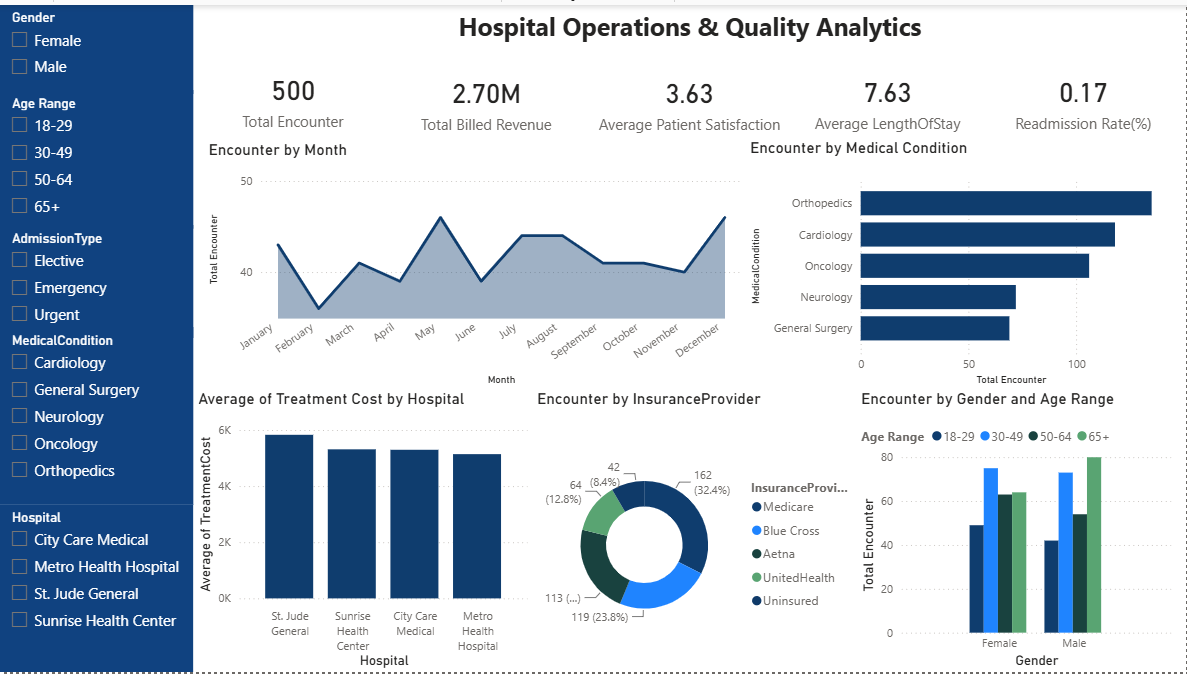

Layout of this report page (visuals, bound fields, positions):
{"tool":"powerbi","page":{"name":"Page 1","canvas":[1280,720],"ordinal":0},"visuals":[{"type":"textbox","box":[208.9,0,1071.9,61.5],"z":0},{"type":"slicer","fields":{"Values":["Hospital Encounters Data.Age Range"]},"box":[0,92.3,208.9,149],"z":1000},{"type":"slicer","fields":{"Values":["Hospital Encounters Data.Hospital"]},"box":[0,539.2,208.9,181.4],"z":2000},{"type":"card","fields":{"Values":["Hospital Encounters Data.Total Encounter"]},"box":[220.2,63.1,191.1,76.1],"z":3000},{"type":"card","fields":{"Values":["Hospital Encounters Data.Total Billed Revenue"]},"box":[424.2,61.5,200.8,84.2],"z":4000},{"type":"card","fields":{"Values":["Hospital Encounters Data.Average Patient Satisfaction"]},"box":[638,61.5,212.1,84.2],"z":5000},{"type":"card","fields":{"Values":["Hospital Encounters Data.Average LengthOfStay"]},"box":[858.2,61.5,199.2,82.6],"z":6000},{"type":"clusteredBarChart","title":"Encounter by Medical Condition","fields":{"Category":["Hospital Encounters Data.MedicalCondition"],"Y":["Hospital Encounters Data.Total Encounter"]},"box":[804.8,144.1,464.7,270.4],"z":7000},{"type":"clusteredColumnChart","title":"Average of Treatment Cost by Hospital","fields":{"Category":["Hospital Encounters Data.Hospital"],"Y":["Avg(Hospital Encounters Data.TreatmentCost)"]},"box":[208.9,414.5,365.9,306],"z":8000},{"type":"donutChart","title":"Encounter by InsuranceProvider","fields":{"Category":["Hospital Encounters Data.InsuranceProvider"],"Y":["Hospital Encounters Data.Total Encounter"]},"box":[574.8,414.5,349.8,306],"z":9000},{"type":"lineClusteredColumnComboChart","title":"Encounter by Gender and Age Range","fields":{"Category":["Hospital Encounters Data.Gender"],"Series":["Hospital Encounters Data.Age Range"],"Y":["Hospital Encounters Data.Total Encounter"]},"box":[924.6,414.5,344.9,306],"z":10000},{"type":"slicer","fields":{"Values":["Hospital Encounters Data.AdmissionType"]},"box":[0,238,208.9,121.4],"z":12000},{"type":"slicer","fields":{"Values":["Hospital Encounters Data.MedicalCondition"]},"box":[0,348.1,208.9,191.1],"z":13000},{"type":"slicer","fields":{"Values":["Hospital Encounters Data.Gender"]},"box":[0,0,208.9,95.5],"z":13001},{"type":"card","fields":{"Values":["Hospital Encounters Data.Readmission Rate(%)"]},"box":[1068.7,61.5,200.8,82.6],"z":13002},{"type":"areaChart","title":"Encounter by Month","fields":{"Category":["Hospital Encounters Data.DischargeDate.Variation.Date Hierarchy.Month"],"Y":["Hospital Encounters Data.Total Encounter"]},"box":[220.2,145.7,584.5,268.8],"z":13003}]}

Visuals, with their boxes in screenshot pixels (x1, y1, x2, y2), scaled from the page's 1280x720 canvas onto the 1187x674 screenshot:
textbox: bbox=(194, 0, 1186, 58)
slicer - Hospital Encounters Data.Age Range: bbox=(0, 86, 194, 226)
slicer - Hospital Encounters Data.Hospital: bbox=(0, 505, 194, 673)
card - Hospital Encounters Data.Total Encounter: bbox=(204, 59, 381, 130)
card - Hospital Encounters Data.Total Billed Revenue: bbox=(393, 58, 580, 136)
card - Hospital Encounters Data.Average Patient Satisfaction: bbox=(592, 58, 788, 136)
card - Hospital Encounters Data.Average LengthOfStay: bbox=(796, 58, 981, 135)
"Encounter by Medical Condition" clusteredBarChart: bbox=(746, 135, 1177, 388)
"Average of Treatment Cost by Hospital" clusteredColumnChart: bbox=(194, 388, 533, 673)
"Encounter by InsuranceProvider" donutChart: bbox=(533, 388, 857, 673)
"Encounter by Gender and Age Range" lineClusteredColumnComboChart: bbox=(857, 388, 1177, 673)
slicer - Hospital Encounters Data.AdmissionType: bbox=(0, 223, 194, 336)
slicer - Hospital Encounters Data.MedicalCondition: bbox=(0, 326, 194, 505)
slicer - Hospital Encounters Data.Gender: bbox=(0, 0, 194, 89)
card - Hospital Encounters Data.Readmission Rate(%): bbox=(991, 58, 1177, 135)
"Encounter by Month" areaChart: bbox=(204, 136, 746, 388)
